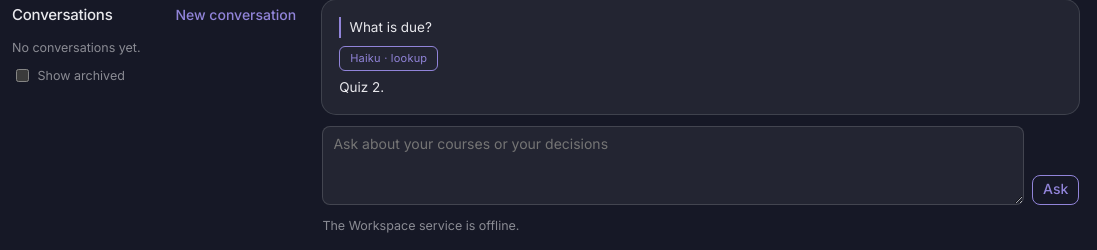
Test: the composer › says the conversation was not found when its id does not exist (23503), never the database`s sentence
The width and height of the screenshot is (1097, 250).
Expected: the text "Quiz 2." is shown, x1=339 y1=79 x2=384 y2=95
Type "hello?" into the text box named "Question" at (673, 165), box x1=322 y1=126 x2=1024 y2=205
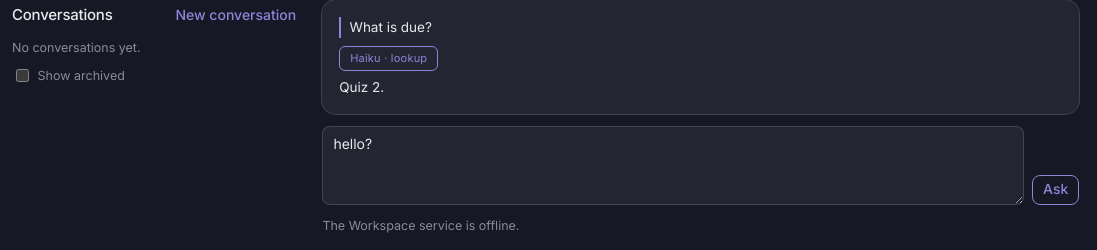
Click the button "Ask" at (1056, 190), box x1=1032 y1=175 x2=1079 y2=205
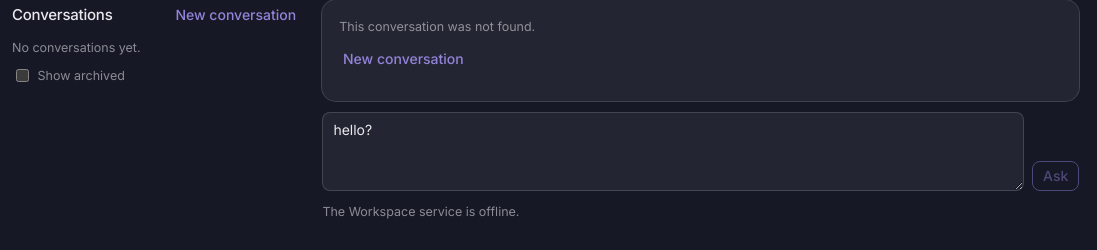
Expected: the text "This conversation was not found." is shown, x1=339 y1=17 x2=535 y2=36
